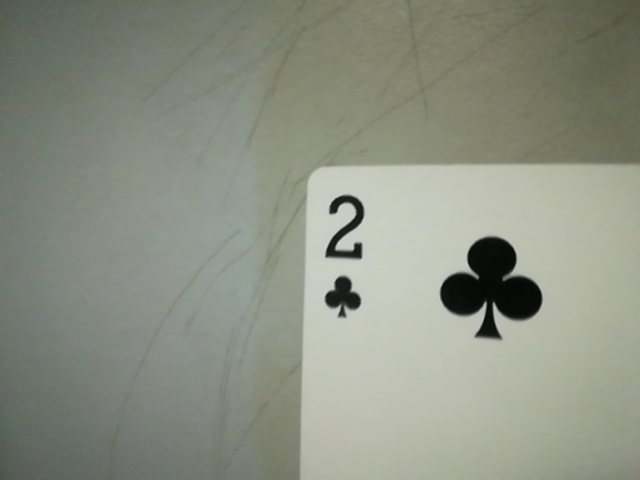mh 2: (311, 183, 382, 328)
